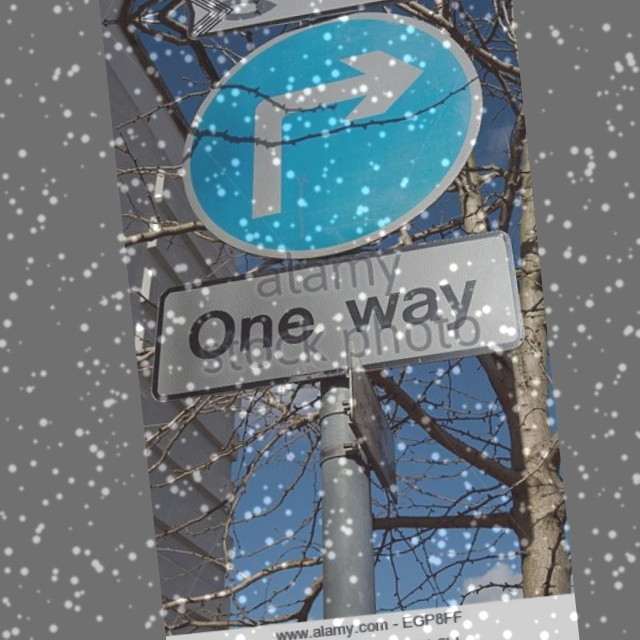Compulsory_Turn_Right_Ahead: (167, 2, 493, 260)
